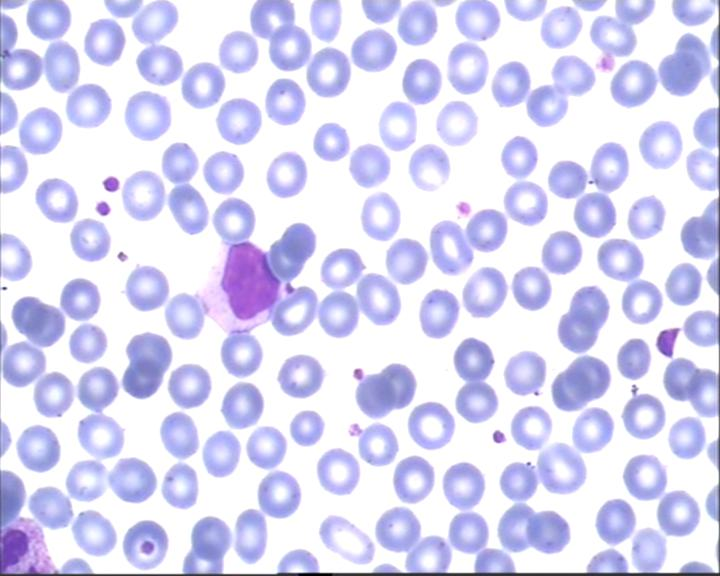mono: (193, 229, 295, 331)
